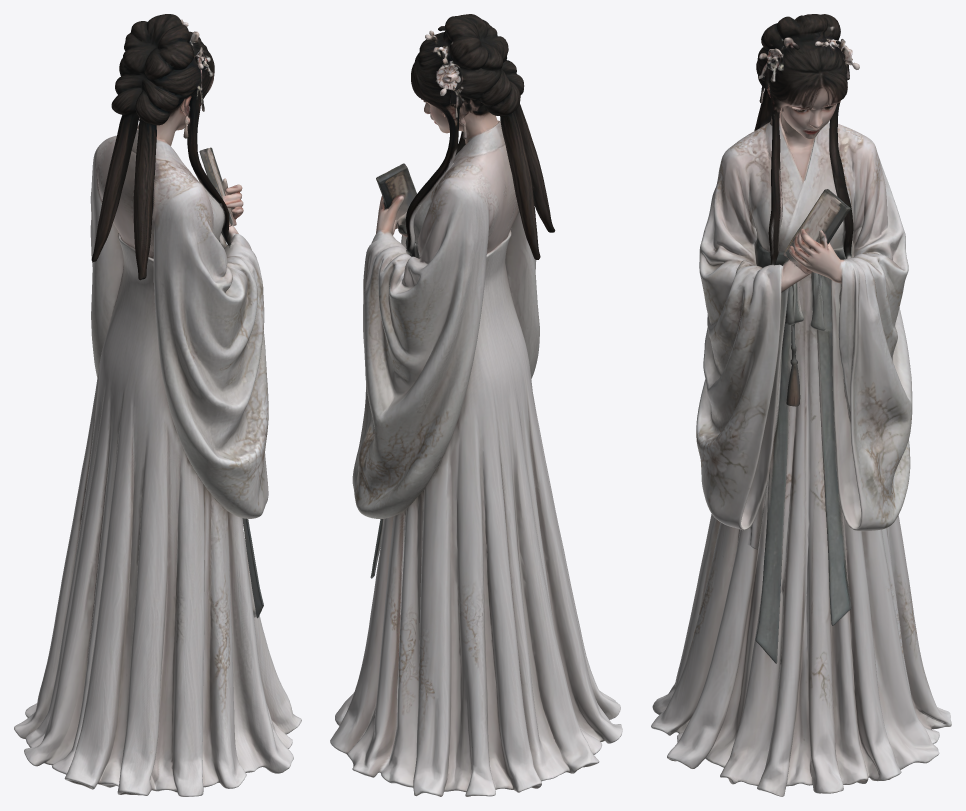
File: lin-daiyu-v1.glb
3 renders of one model, left to right at view 1: azimuth 30°, elevation 25°; view 2: azimuth 150°, elevation 25°; view 3: azimuth 270°, elevation 25°, orthographic.
Parts seen in each view (by area): view 1: tripo_node_ab165738-6ae1-41f1-806e-61612cbd93f7; view 2: tripo_node_ab165738-6ae1-41f1-806e-61612cbd93f7; view 3: tripo_node_ab165738-6ae1-41f1-806e-61612cbd93f7.
Part boxes in pixels (x1,y1,x2,y2): tripo_node_ab165738-6ae1-41f1-806e-61612cbd93f7: (14,14,301,796); tripo_node_ab165738-6ae1-41f1-806e-61612cbd93f7: (330,14,622,796); tripo_node_ab165738-6ae1-41f1-806e-61612cbd93f7: (651,14,951,796).
Bounding box in the file's own units: 0.3642 × 1 × 0.3736.
1 material, 1 textured.
